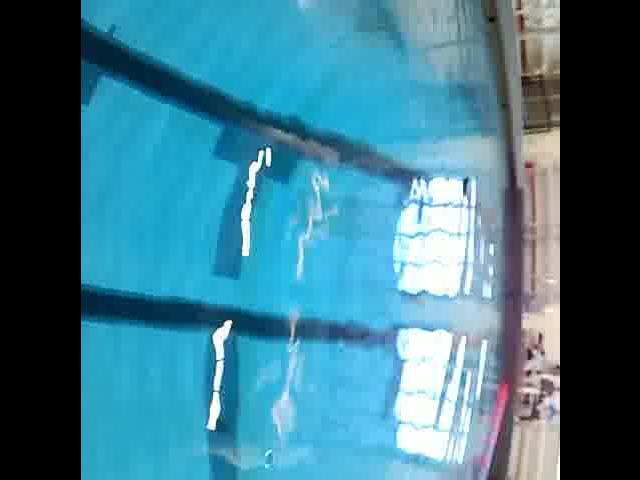CamMount: (456, 172, 471, 204)
